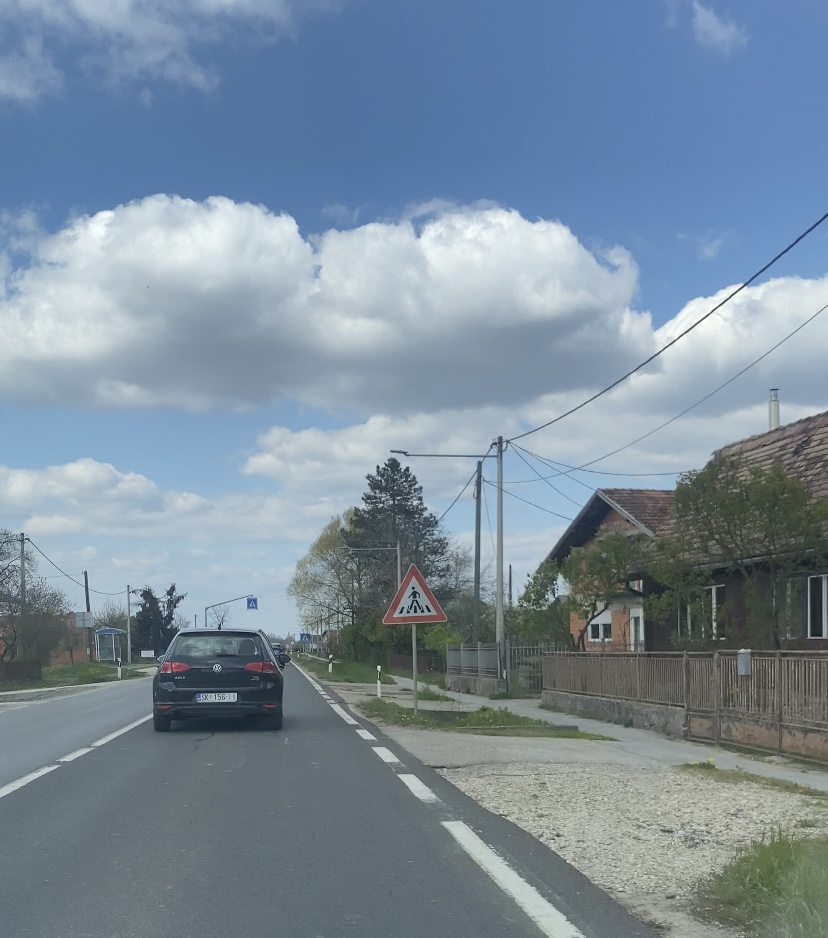Približavanje pješačkom prijelazu: (383, 563, 447, 623)
